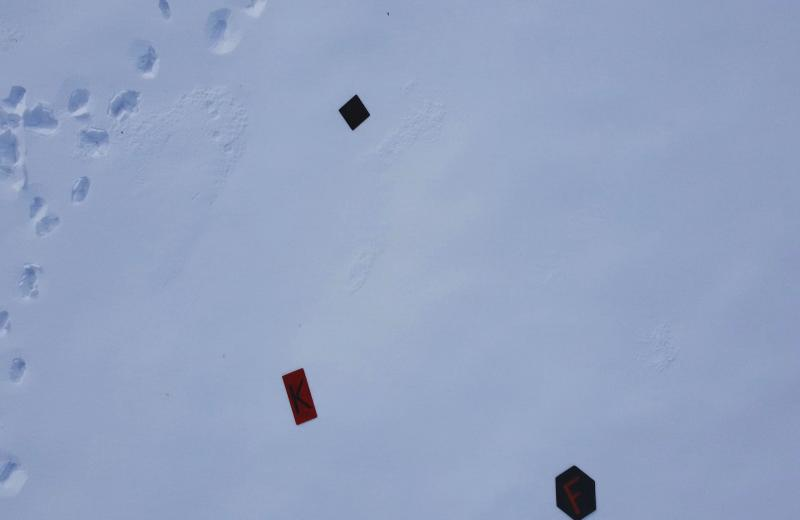Hexagon: (552, 465, 599, 520)
Rectangle: (281, 366, 320, 426)
Square: (340, 92, 372, 129)
